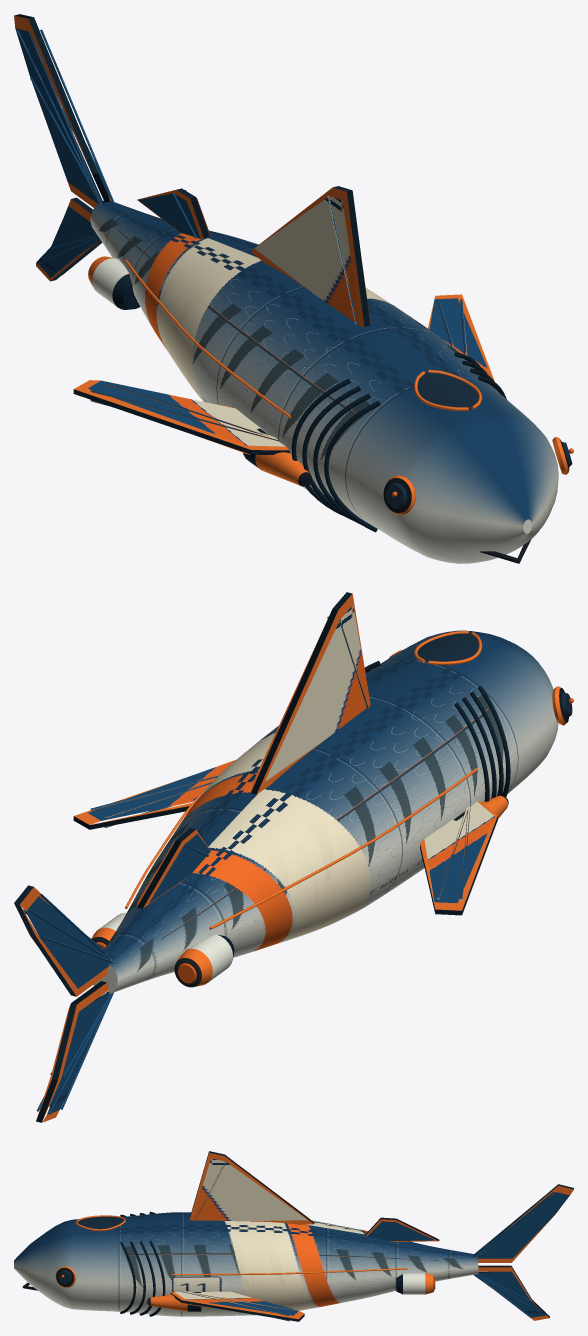
3 renders of one model, top to bottom at view 1: azimuth 30°, elevation 25°; view 2: azimuth 150°, elevation 25°; view 3: azimuth 270°, elevation 25°, orthographic. The views are drawn at different scales.
Visible parts, largest first — view 1: tiger_shark_hull; view 2: tiger_shark_hull; view 3: tiger_shark_hull.
Boxes of the visible parts, x1,y1,x2,y2 form: tiger_shark_hull: (14,14,573,563); tiger_shark_hull: (14,592,573,1122); tiger_shark_hull: (14,1151,573,1321).
Bounding box in the file's own units: 35.12 × 26.52 × 80.
1 material, 1 textured.
